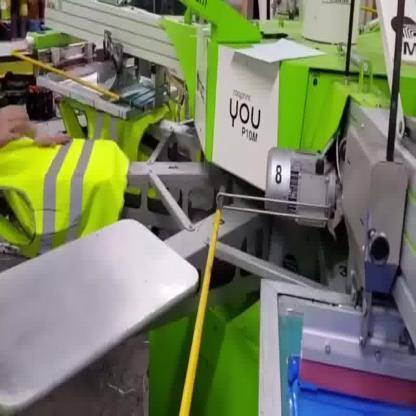vest: (1, 134, 130, 262)
